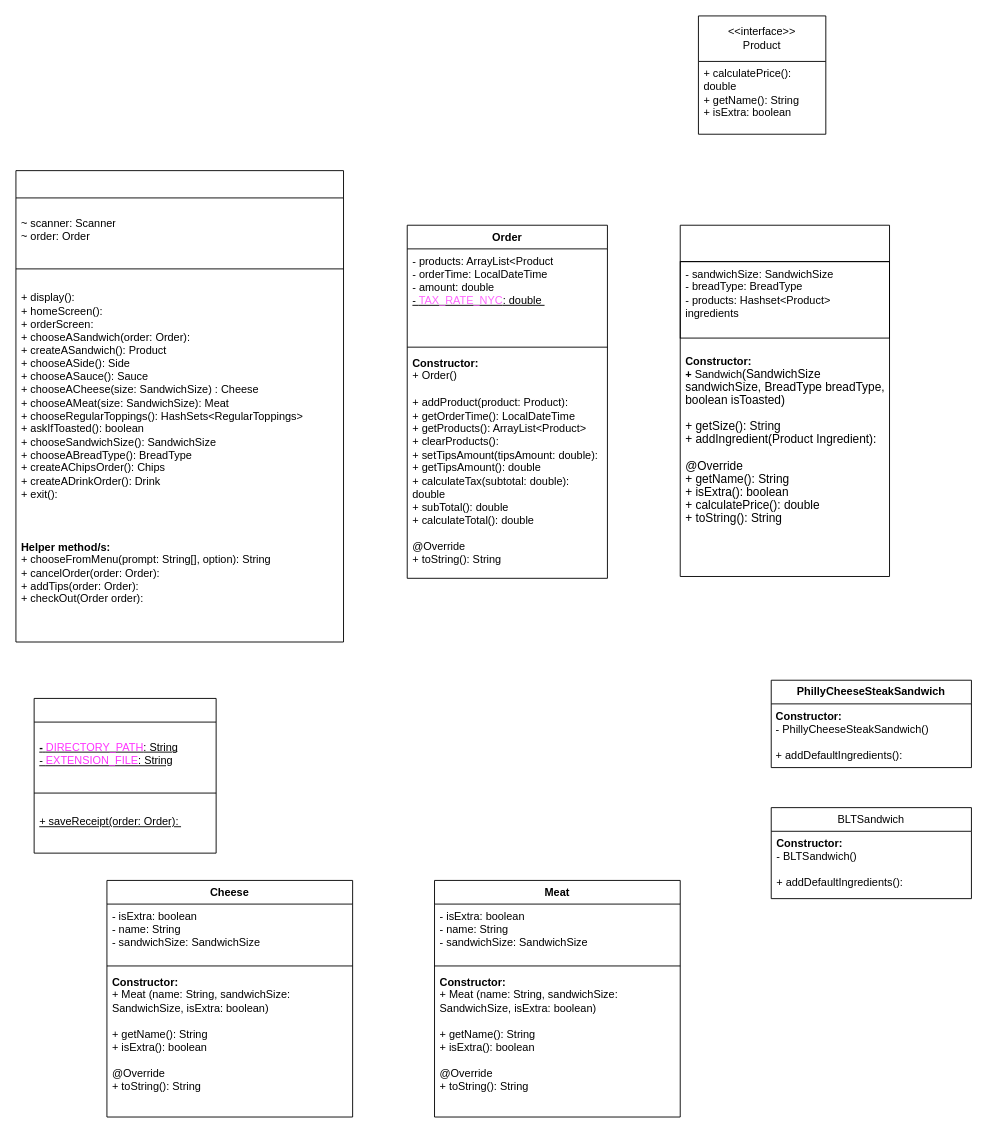
Some shapes in this 987 by 1136 pixel diagram are drawn without their labels. The shapes that lost their labels are listed below. From the top down, each one's box as (x1, y1, x2, y2) in pixels, then its label:
(15, 170, 344, 642): UserInterface
(679, 224, 890, 576): <<Inheritance>> Sandwich
(33, 698, 216, 853): ReceiptManager
